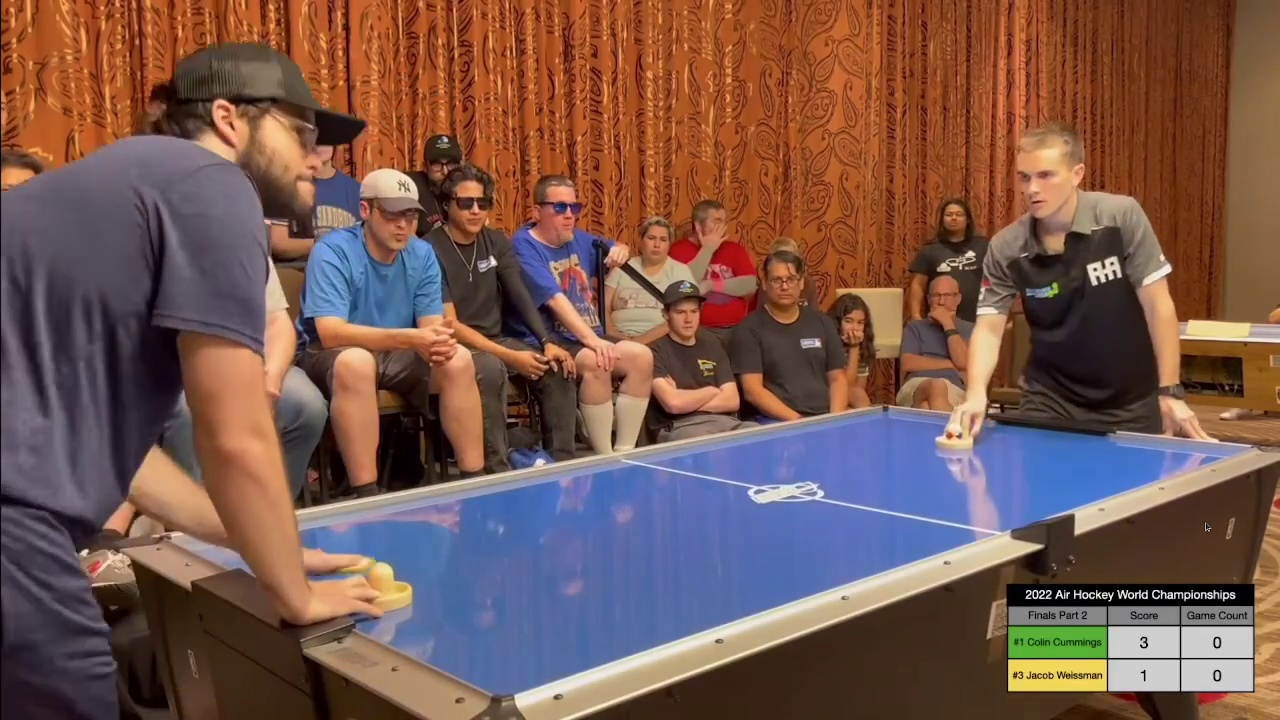player: (367, 562, 415, 611), (935, 421, 979, 450)
puck: (337, 549, 377, 570)
table: (181, 405, 1280, 690)
